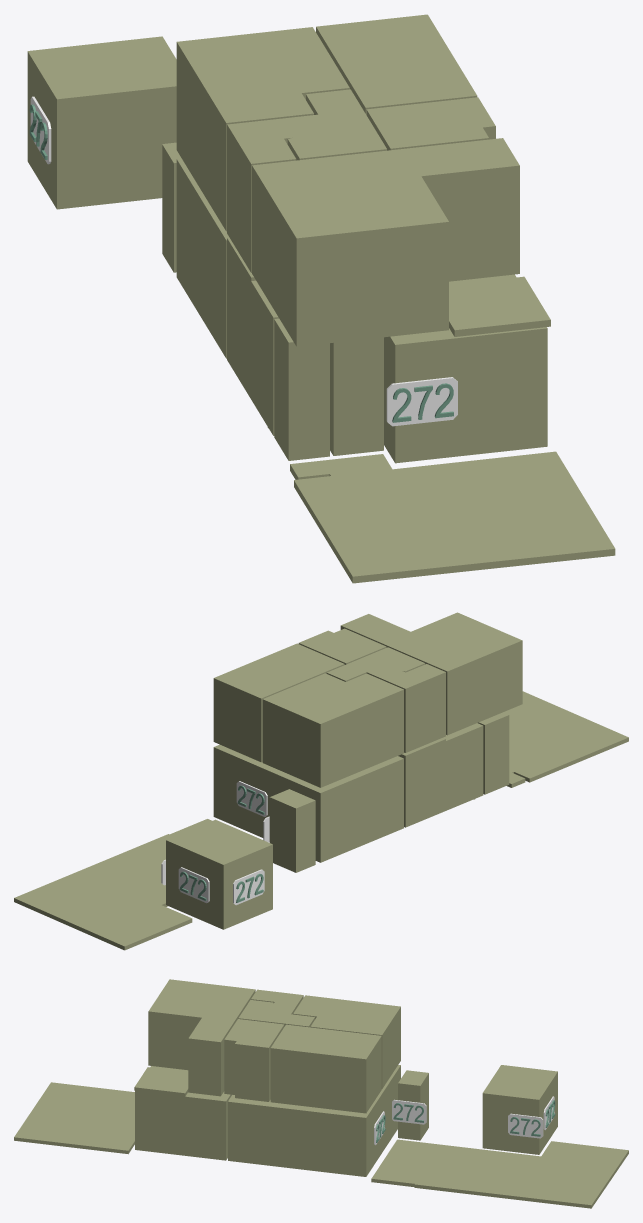
3 views of the same model, one above another, from view 1: azimuth 30°, elevation 25°; view 2: azimuth 150°, elevation 25°; view 3: azimuth 270°, elevation 25° (orthographic). The views are drawn at different scales.
Visible parts, largest first — view 1: g_8, g_12, g_0, g_2, g_6, g_3, g_7, g_5, g_1, g_9, g_11, g_10 (+3 smaller); view 2: g_6, g_1, g_14, g_8, g_0, g_7, g_12, g_3, g_11, g_4, g_5, g_9 (+4 smaller); view 3: g_14, g_1, g_7, g_8, g_12, g_2, g_0, g_6, g_9, g_4, g_10, g_13 (+3 smaller).
Part boxes in pixels (bbox=[...]): g_8: bbox=[252, 138, 519, 346]; g_12: bbox=[290, 451, 615, 583]; g_0: bbox=[27, 36, 176, 209]; g_2: bbox=[384, 274, 547, 463]; g_6: bbox=[176, 27, 349, 231]; g_3: bbox=[227, 238, 383, 455]; g_7: bbox=[316, 14, 477, 114]; g_5: bbox=[274, 318, 329, 460]; g_1: bbox=[176, 158, 229, 358]; g_9: bbox=[366, 97, 495, 150]; g_11: bbox=[227, 118, 296, 272]; g_10: bbox=[281, 89, 386, 160]; g_6: bbox=[262, 673, 403, 787]; g_1: bbox=[213, 744, 403, 862]; g_14: bbox=[14, 819, 211, 950]; g_8: bbox=[340, 612, 522, 735]; g_0: bbox=[166, 819, 272, 929]; g_7: bbox=[213, 643, 344, 762]; g_12: bbox=[503, 691, 628, 787]; g_3: bbox=[398, 723, 483, 827]; g_11: bbox=[382, 664, 445, 752]; g_4: bbox=[269, 789, 315, 872]; g_5: bbox=[478, 712, 509, 794]; g_9: bbox=[298, 628, 386, 664]; g_14: bbox=[371, 1139, 628, 1208]; g_1: bbox=[228, 1065, 400, 1176]; g_7: bbox=[270, 1024, 381, 1113]; g_8: bbox=[148, 979, 255, 1096]; g_12: bbox=[14, 1082, 134, 1154]; g_2: bbox=[135, 1066, 231, 1160]; g_0: bbox=[482, 1065, 557, 1154]; g_6: bbox=[293, 995, 400, 1088]; g_9: bbox=[224, 1019, 284, 1101]; g_4: bbox=[398, 1070, 428, 1140]; g_10: bbox=[238, 1000, 314, 1027]; g_13: bbox=[134, 1067, 188, 1096].
Bounding box in the file's own units: 11.6 × 5.35 × 24.53.
